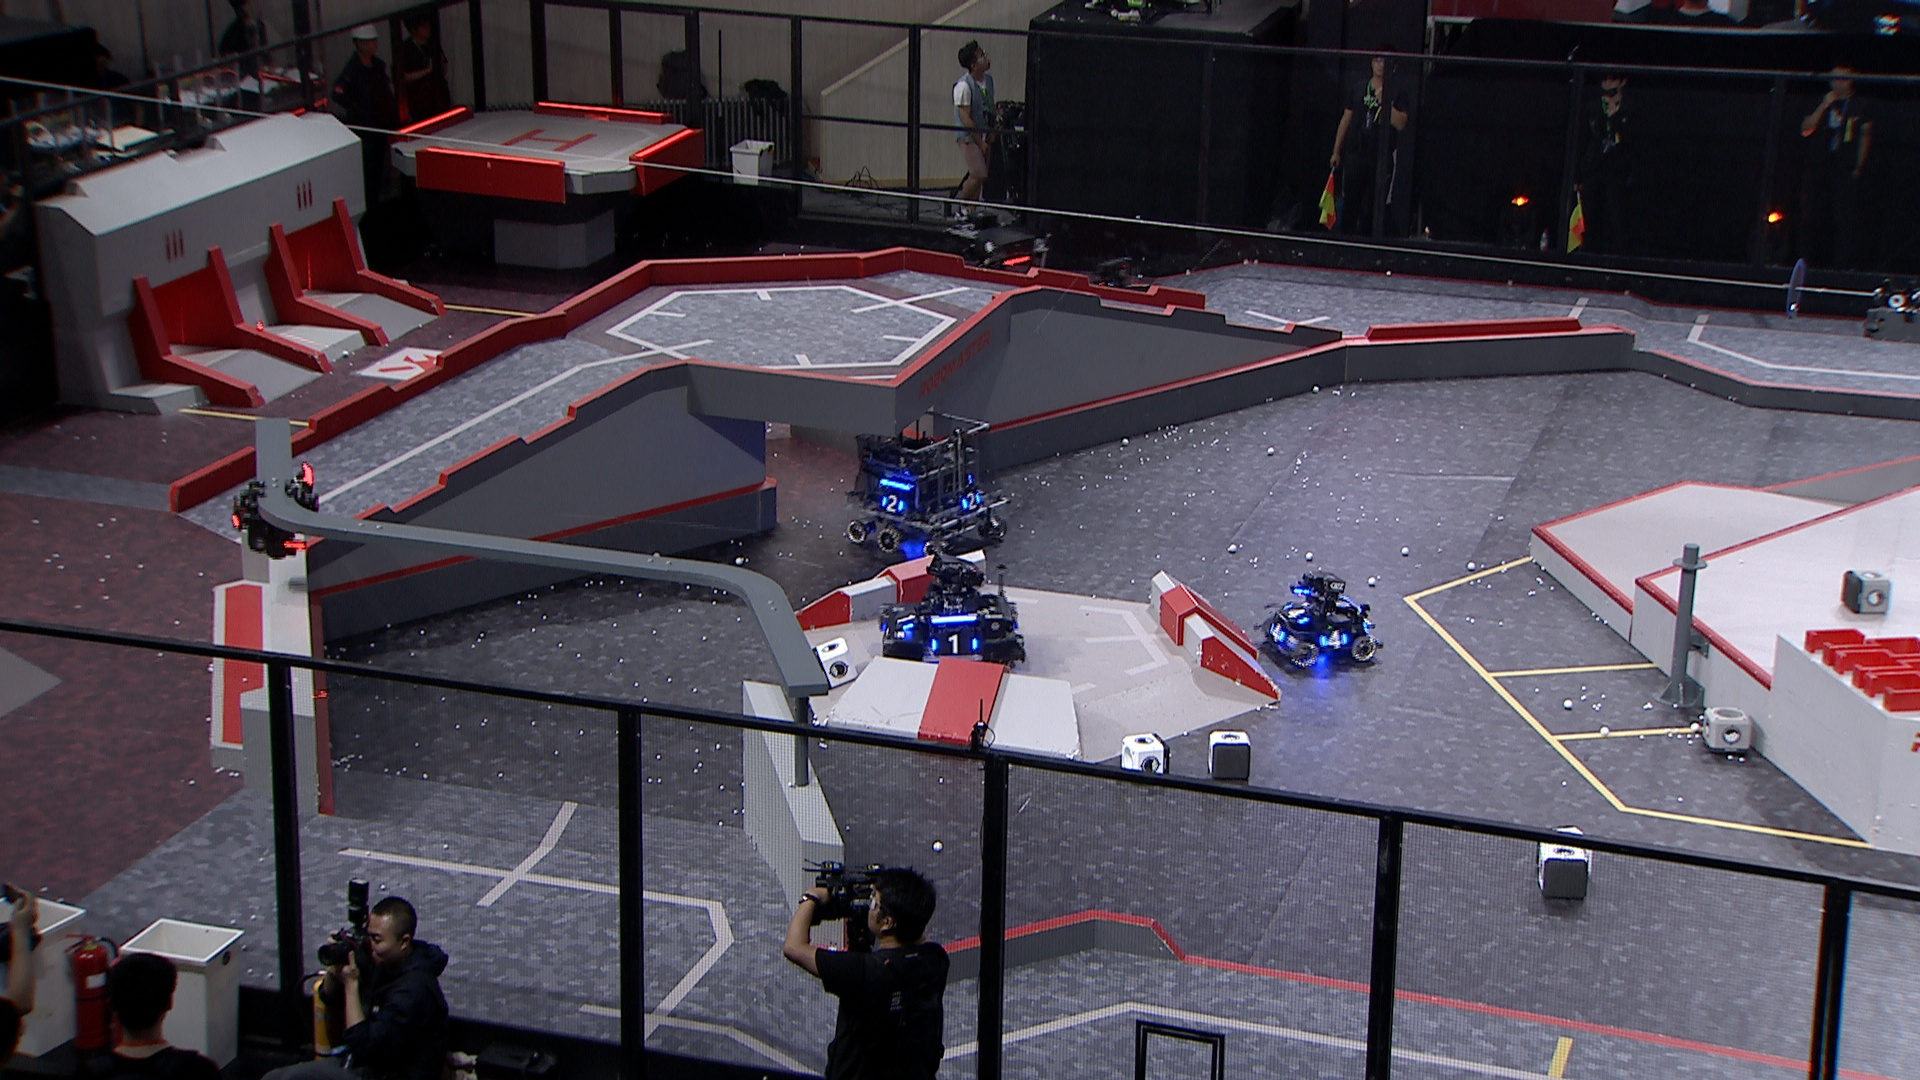armor: (930, 633, 978, 655), (1317, 626, 1349, 651), (960, 491, 984, 514), (1284, 603, 1311, 624), (882, 493, 906, 516), (897, 609, 916, 632), (1269, 622, 1288, 644), (880, 622, 894, 646)
car: (845, 406, 1015, 564), (878, 546, 1025, 674), (1255, 568, 1385, 669), (963, 229, 1051, 314), (1073, 257, 1158, 324)
watcher: (231, 463, 320, 564)
